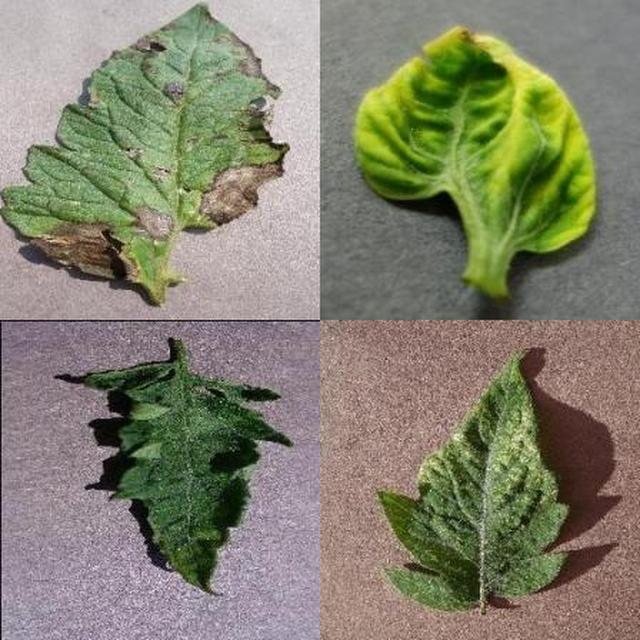Late Blight Leaf: (207, 199, 640, 640)
